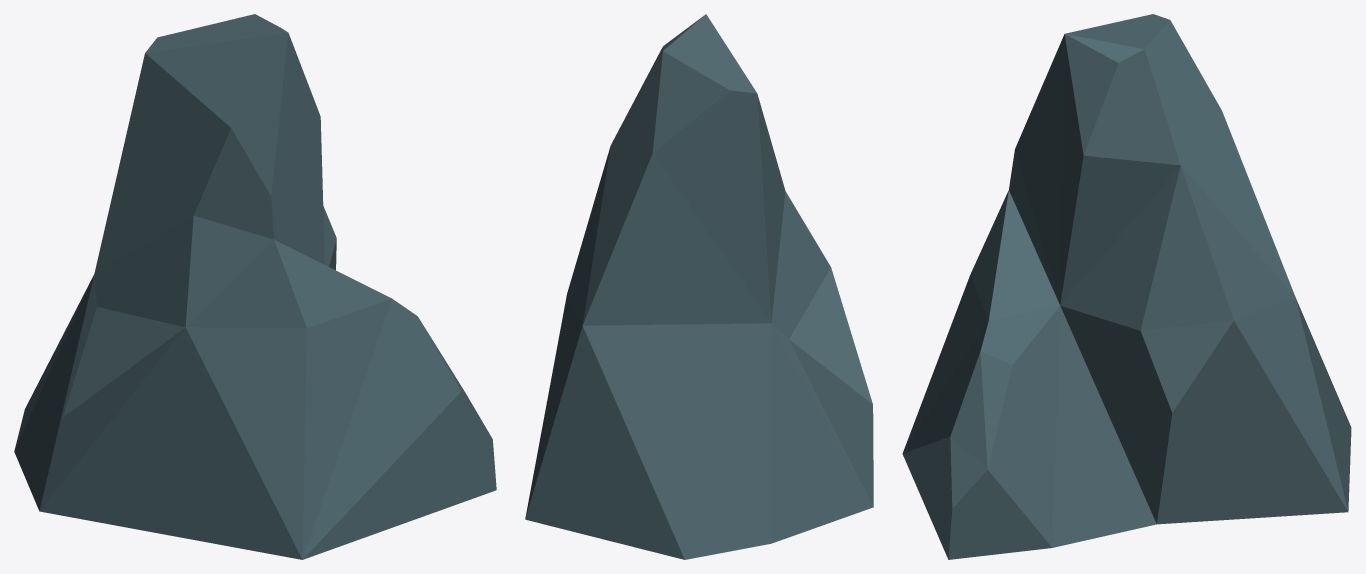
The model's file is stone3.fbx.
3 renders of one model, left to right at view 1: azimuth 30°, elevation 25°; view 2: azimuth 150°, elevation 25°; view 3: azimuth 270°, elevation 25°, orthographic. The views are drawn at different scales.
Visible parts, largest first — view 1: Box013; view 2: Box013; view 3: Box013.
Boxes of the visible parts, x1=… form: Box013: x1=14, y1=14, x2=496, y2=559; Box013: x1=525, y1=14, x2=873, y2=559; Box013: x1=902, y1=14, x2=1351, y2=559.
Size of the model in its own units: 8 by 9.47 by 8.52.
